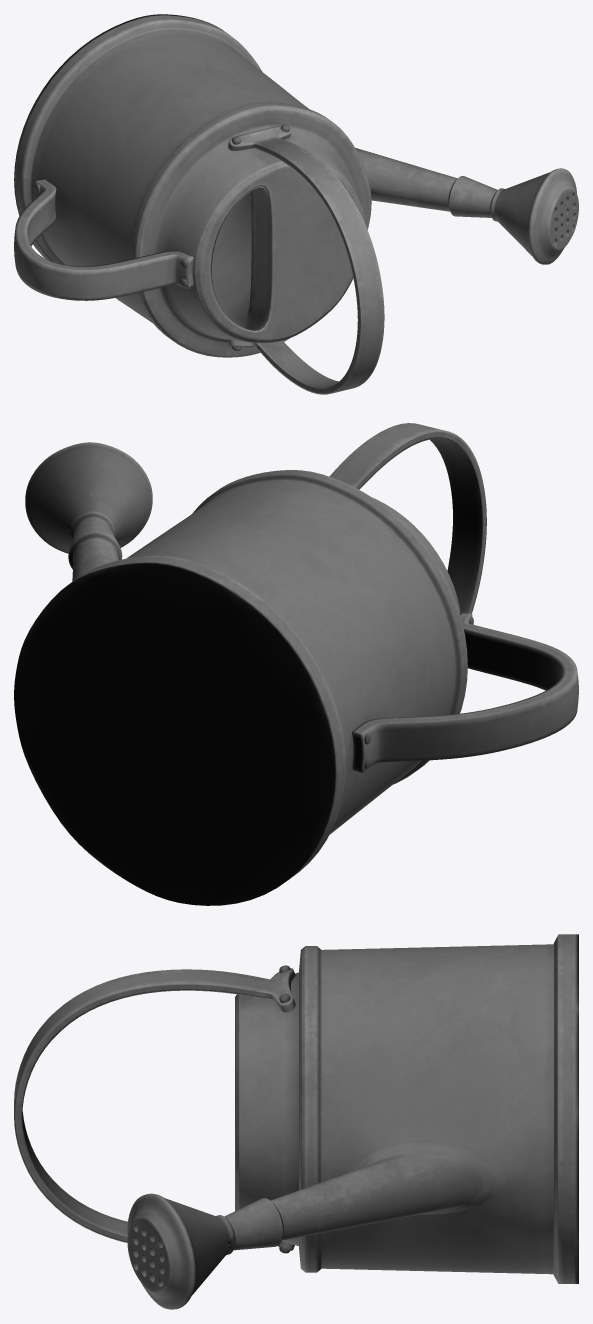
Rendered from WateringCan.gltf.
The picture shows the model from 3 angles, top to bottom: view 1: azimuth 30°, elevation 25°; view 2: azimuth 150°, elevation 25°; view 3: azimuth 270°, elevation 25°; orthographic projection. The views are drawn at different scales.
Visible parts, largest first — view 1: WateringCanBody; view 2: WateringCanBody; view 3: WateringCanBody.
Part boxes in pixels (x1,y1,x2,y2): WateringCanBody: [14, 14, 578, 394]; WateringCanBody: [14, 423, 578, 905]; WateringCanBody: [14, 934, 578, 1309].
Bounding box in the file's own units: 54.91 × 28.35 × 45.51.
